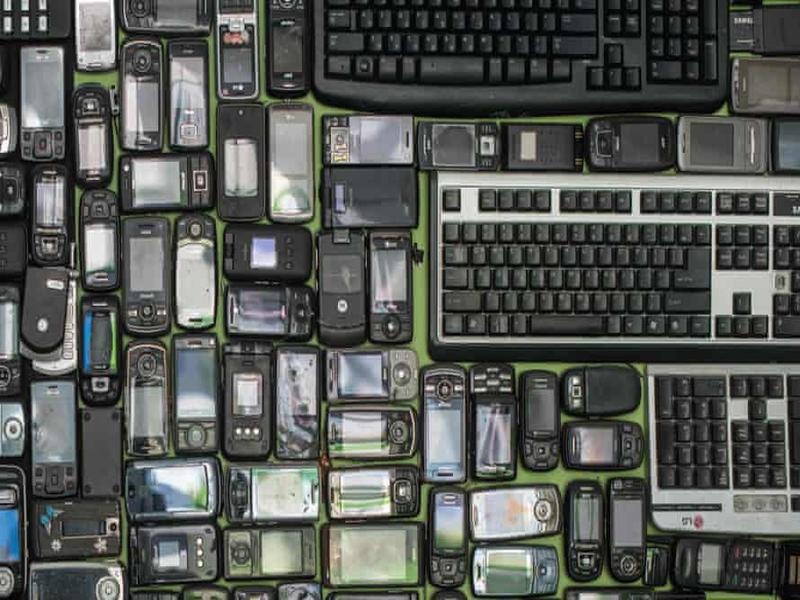keyboard: (423, 168, 800, 363), (309, 1, 732, 115)
